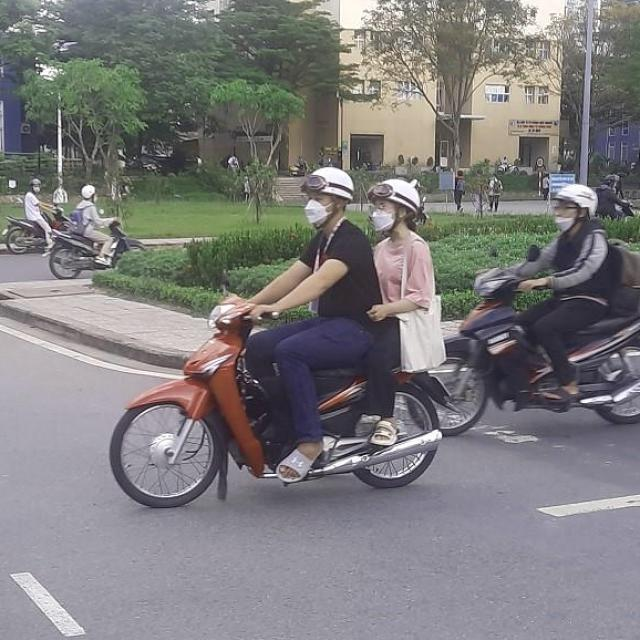Helmet: (302, 168, 354, 226), (369, 178, 422, 234), (547, 182, 600, 232)
